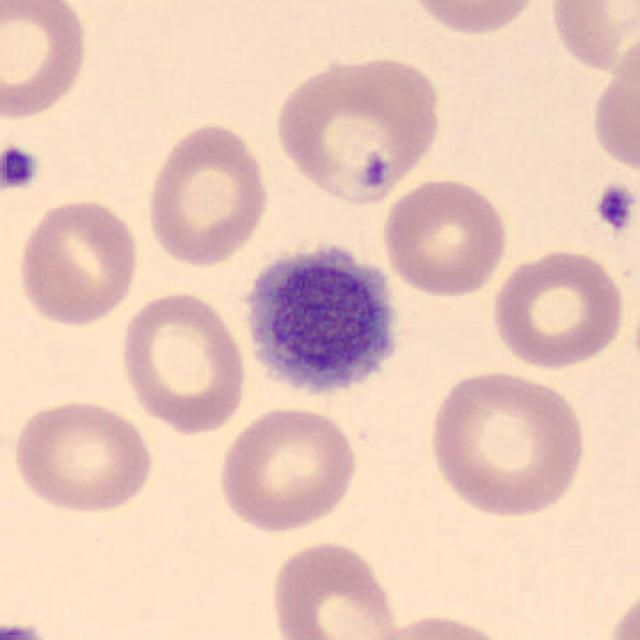Lymphocyte: (237, 230, 411, 403)
Platelets: (592, 182, 636, 234), (0, 143, 43, 194), (361, 146, 404, 191), (0, 620, 45, 640)
RBC: (268, 51, 446, 208), (423, 365, 590, 522), (116, 288, 250, 436), (213, 402, 361, 536), (142, 118, 272, 270), (487, 245, 629, 372), (9, 395, 156, 517), (12, 194, 142, 330), (379, 174, 512, 300), (266, 537, 403, 640), (0, 0, 92, 123), (546, 0, 638, 76), (400, 0, 544, 37), (358, 610, 516, 640), (601, 580, 638, 640)
